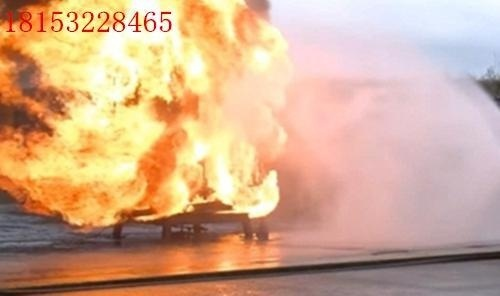fire: (1, 0, 291, 234)
